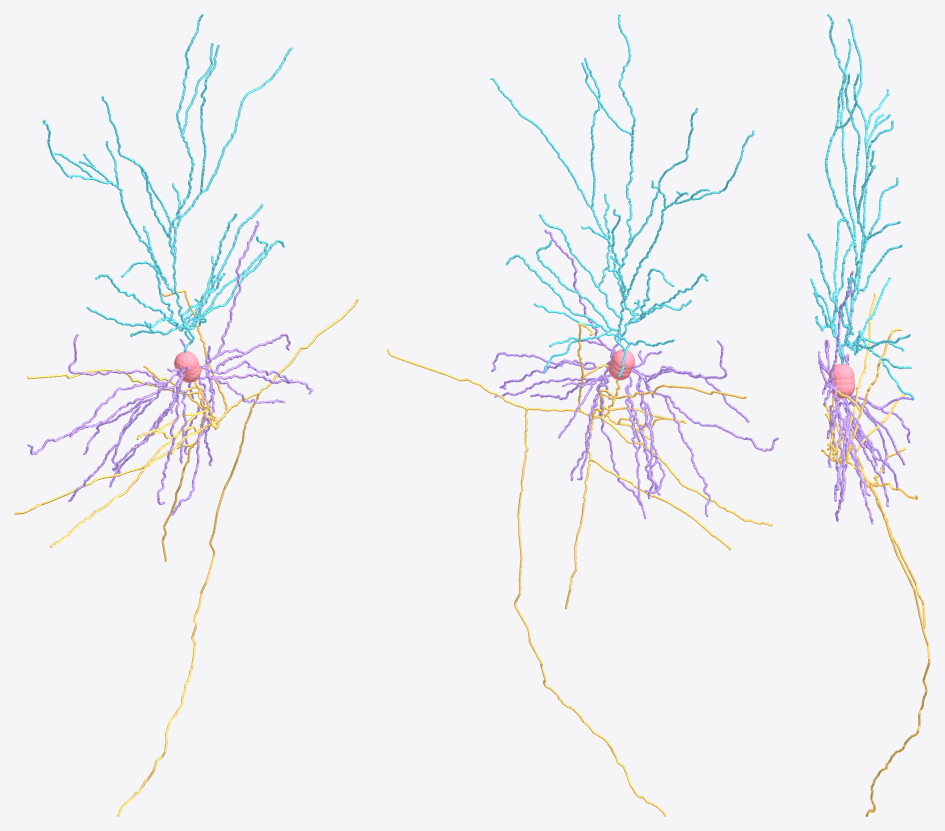
The model's file is human-pyramidal-neuron-nmo-86976.glb.
The picture shows the model from 3 angles, left to right: view 1: azimuth 30°, elevation 25°; view 2: azimuth 150°, elevation 25°; view 3: azimuth 270°, elevation 25°; orthographic projection. The views are drawn at different scales.
Parts seen in each view (by area): view 1: Apical dendrite, Basal dendrites, Axon; view 2: Apical dendrite, Basal dendrites, Axon; view 3: Apical dendrite, Basal dendrites, Axon, Soma.
Boxes of the visible parts, bbox=[...] form: Apical dendrite: bbox=[42, 14, 292, 352]; Basal dendrites: bbox=[27, 220, 313, 516]; Axon: bbox=[14, 289, 358, 816]; Apical dendrite: bbox=[490, 14, 754, 377]; Basal dendrites: bbox=[491, 229, 778, 519]; Axon: bbox=[387, 323, 772, 816]; Apical dendrite: bbox=[807, 14, 914, 400]; Basal dendrites: bbox=[818, 270, 911, 524]; Axon: bbox=[821, 292, 930, 816]; Soma: bbox=[829, 363, 854, 399].
Bounding box in the file's own units: 2.58 × 5.36 × 0.7158.
